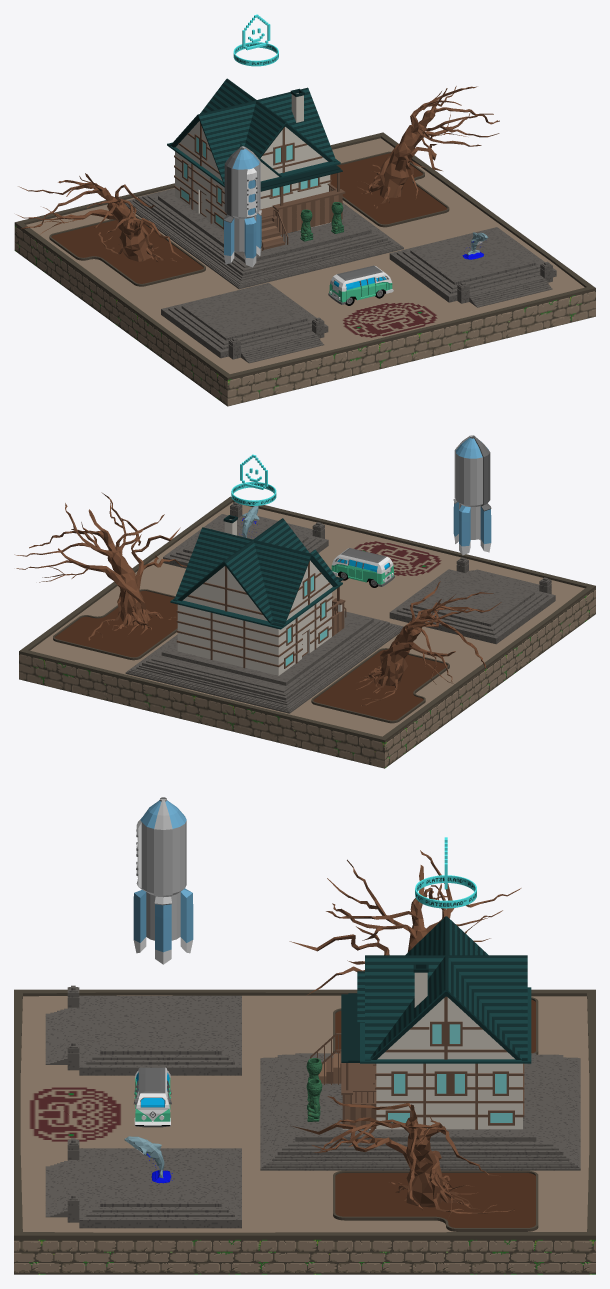
3 views of the same model, one above another, from view 1: azimuth 30°, elevation 25°; view 2: azimuth 150°, elevation 25°; view 3: azimuth 270°, elevation 25° (orthographic). The views are drawn at different scales.
Parts seen in each view (by area): view 1: Cube.011, Cube.793, OBJRANDOM_ROCKETSHIP, VEHICLES_VAN, TYPE_PREMIUM; view 2: Cube.011, Cube.793, OBJRANDOM_ROCKETSHIP, VEHICLES_VAN, TYPE_PREMIUM; view 3: Cube.011, Cube.793, OBJRANDOM_ROCKETSHIP, VEHICLES_VAN, TYPE_PREMIUM, ANIMAL_DELFIN.
Part boxes in pixels (x1=…): Cube.011: x1=14, y1=86, x2=595, y2=406; Cube.793: x1=167, y1=78, x2=345, y2=250; OBJRANDOM_ROCKETSHIP: x1=223, y1=146, x2=261, y2=267; VEHICLES_VAN: x1=328, y1=265, x2=393, y2=305; TYPE_PREMIUM: x1=233, y1=14, x2=278, y2=66; Cube.011: x1=14, y1=492, x2=595, y2=768; Cube.793: x1=170, y1=515, x2=346, y2=675; OBJRANDOM_ROCKETSHIP: x1=453, y1=435, x2=491, y2=555; VEHICLES_VAN: x1=331, y1=548, x2=394, y2=587; TYPE_PREMIUM: x1=231, y1=454, x2=276, y2=505; Cube.011: x1=14, y1=850, x2=595, y2=1274; Cube.793: x1=310, y1=916, x2=531, y2=1129; OBJRANDOM_ROCKETSHIP: x1=133, y1=797, x2=193, y2=964; VEHICLES_VAN: x1=134, y1=1067, x2=171, y2=1127; TYPE_PREMIUM: x1=415, y1=837, x2=476, y2=908; ANIMAL_DELFIN: x1=124, y1=1136, x2=172, y2=1183.
Bounding box in the file's own units: 5099 × 2475 × 4000.
Materials: 33 (7 with a texture image).
